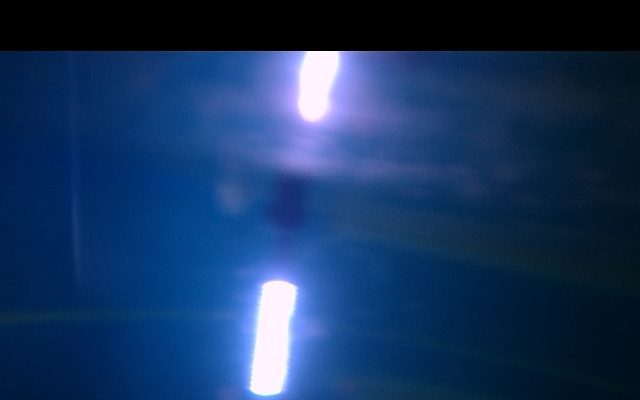white: (249, 279, 297, 397)
